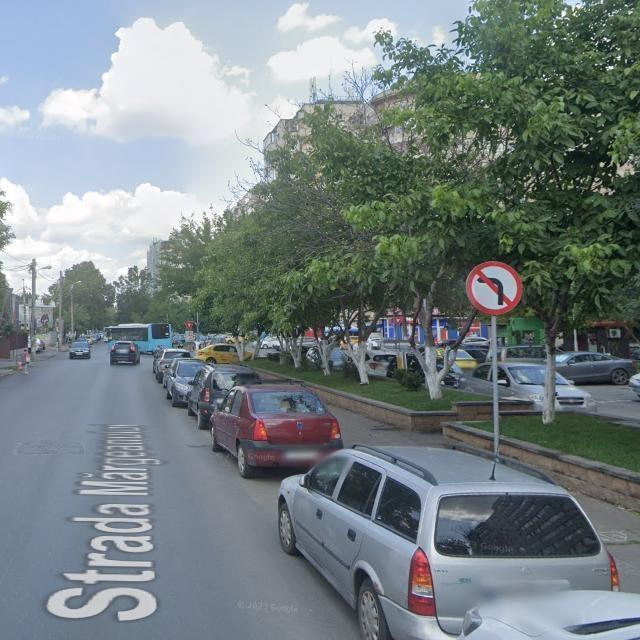prio_give_way: (184, 321, 194, 332)
